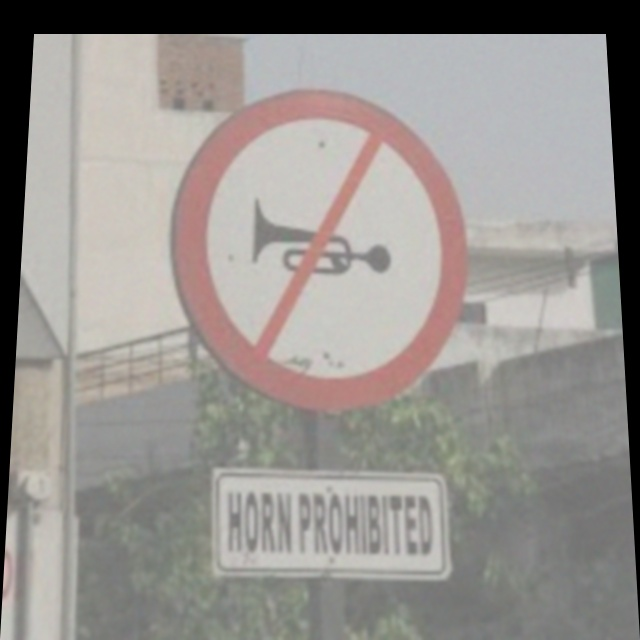Horn_Prohibited: (179, 91, 469, 408)
